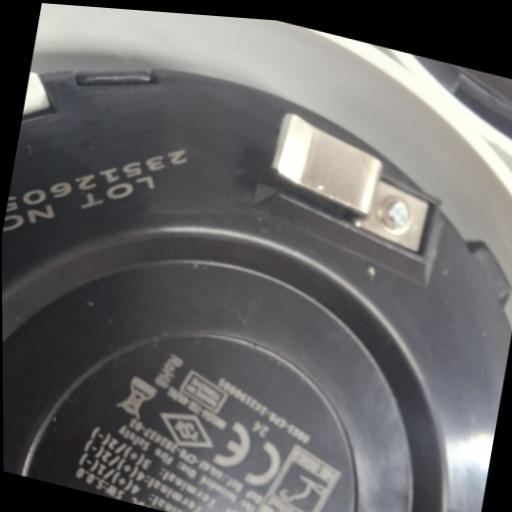yaysiz: (260, 107, 443, 256)
